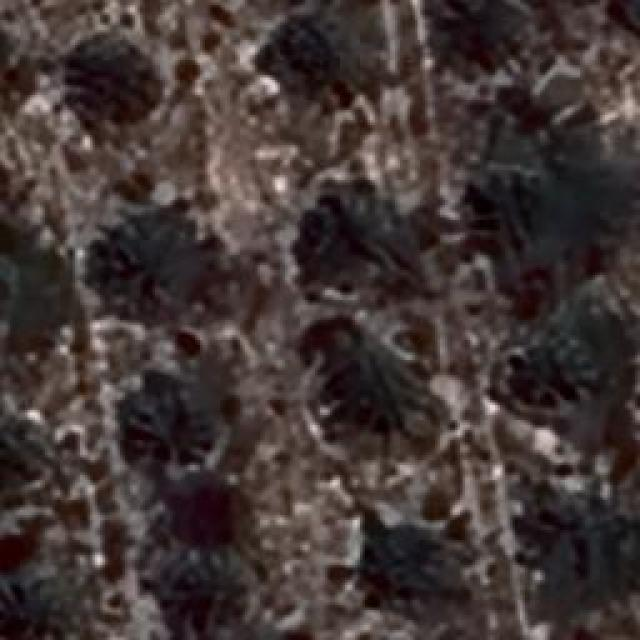PalmTree: (25, 18, 622, 458), (112, 215, 200, 313), (304, 188, 388, 282), (516, 320, 596, 415), (335, 344, 413, 428), (131, 376, 209, 459), (165, 556, 248, 634), (484, 161, 552, 251), (385, 522, 455, 602), (84, 31, 144, 119), (295, 11, 360, 91), (540, 496, 602, 579), (447, 0, 524, 62), (9, 585, 79, 640)
